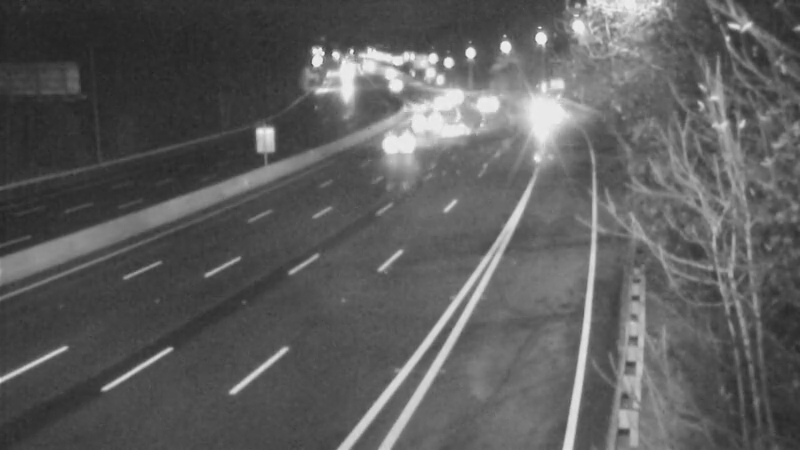vehicle: (427, 69, 477, 119), (469, 77, 519, 127), (419, 80, 469, 130), (389, 87, 439, 137), (516, 90, 566, 140), (392, 94, 442, 144), (428, 105, 478, 155), (382, 118, 432, 168)
